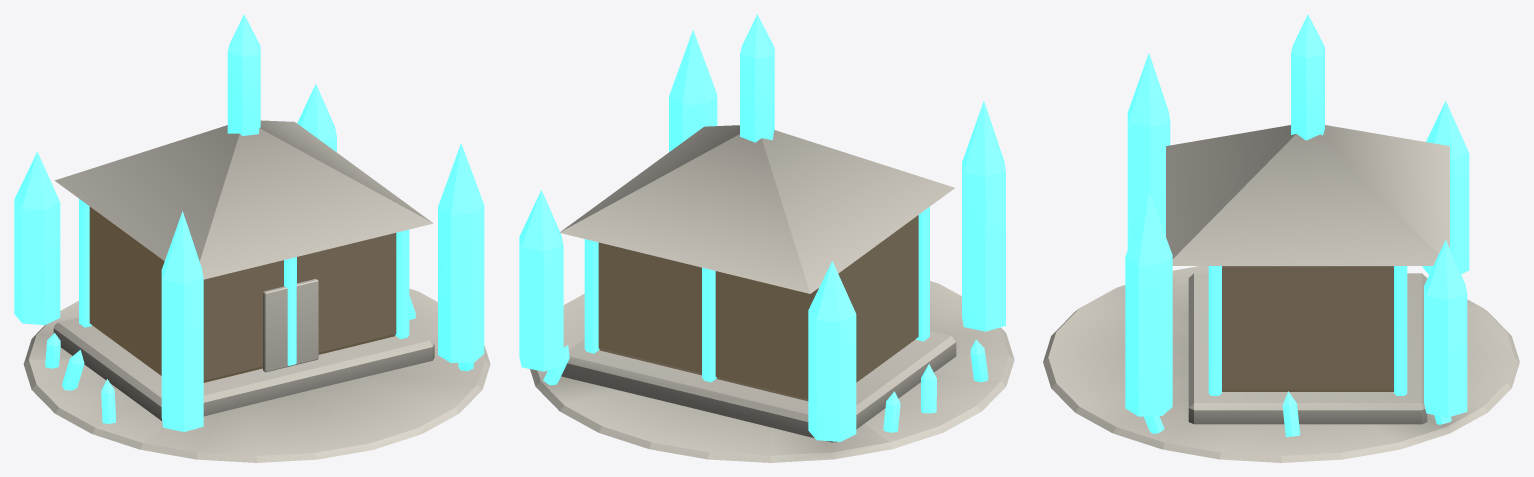
Rendered from bld_ledyanoy_chertog.glb.
3 views of the same model, side by side, from view 1: azimuth 30°, elevation 25°; view 2: azimuth 150°, elevation 25°; view 3: azimuth 270°, elevation 25° (orthographic). The views are drawn at different scales.
Visible parts, largest first — view 1: ledyanoy_chertog; view 2: ledyanoy_chertog; view 3: ledyanoy_chertog.
Boxes of the visible parts, box(x1,y1,x2,y2) form: ledyanoy_chertog: box(14, 14, 490, 462); ledyanoy_chertog: box(519, 14, 1014, 462); ledyanoy_chertog: box(1043, 14, 1519, 462).
Size of the model in its own units: 1.8 by 1.45 by 1.8.
